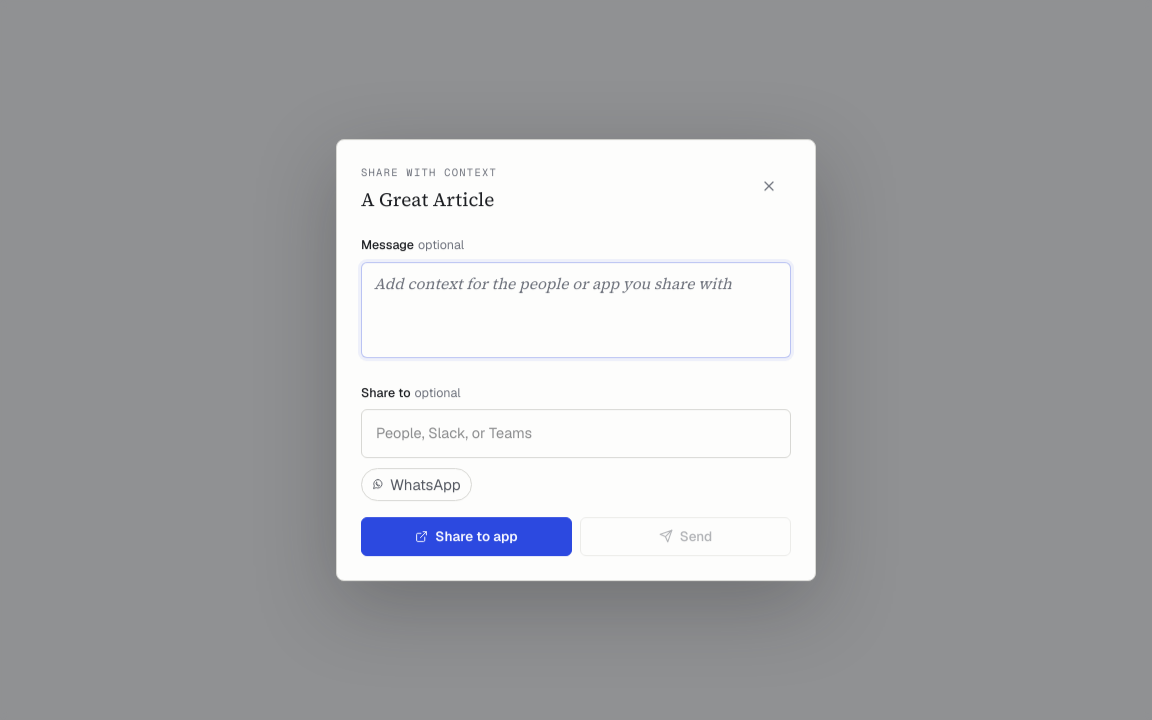
Test: <ShareModal> › searches users (debounced), strips the @, and adds a recipient
The width and height of the screenshot is (1152, 720).
Type "@bo" into the dropdown labelled "Share to". click: [576, 434]
box: [372,416,780,451]
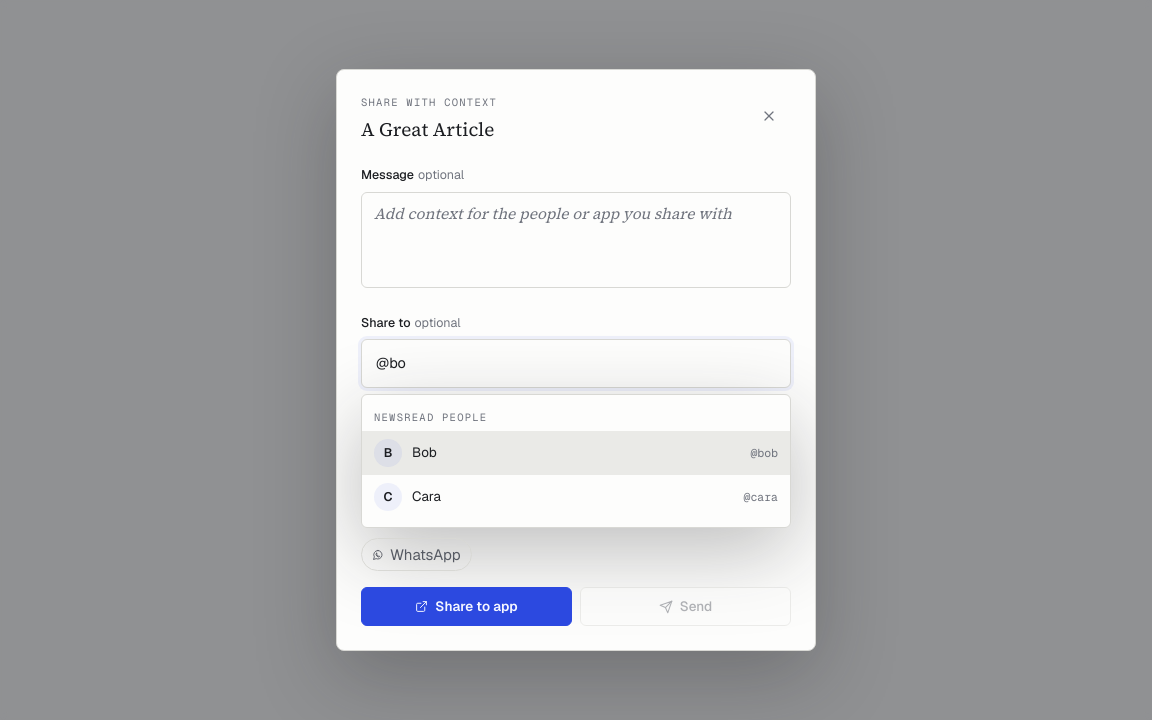
Check: the text "Bob" is shown
Click the text "Bob". click: [424, 452]
box: [412,443,437,461]
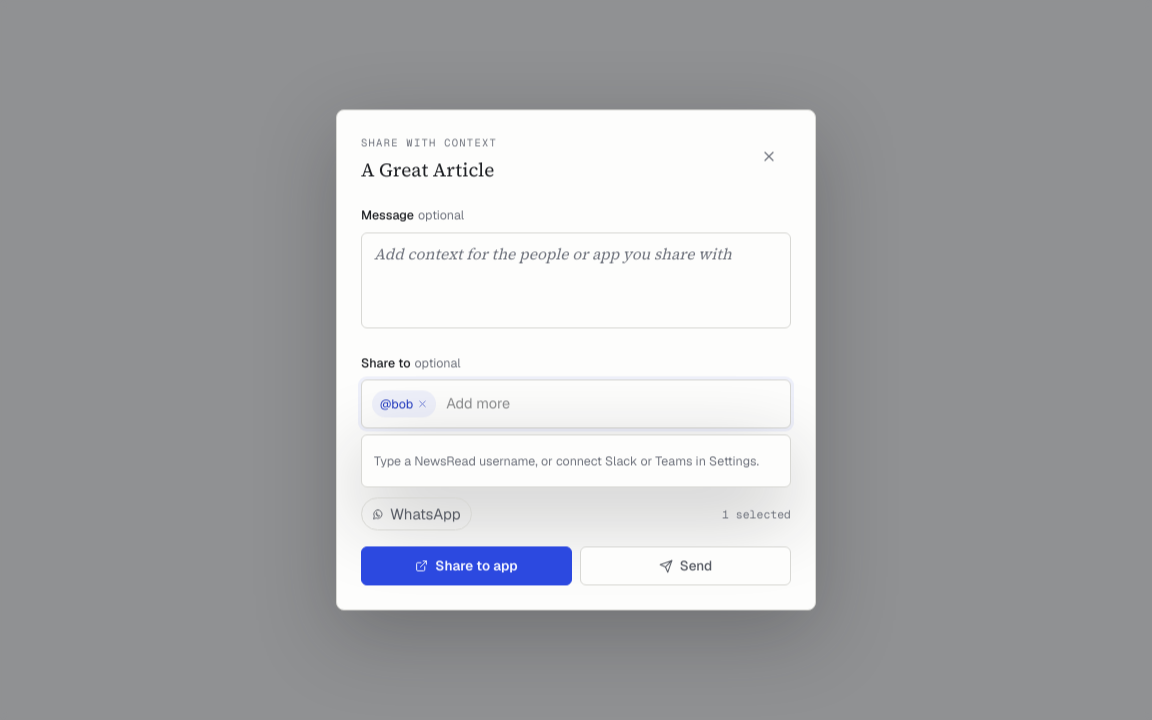
Check: the text "@bob" is shown, box [380,394,413,414]
Check: the dropdown labelled "Share to" is empty, box [442,387,780,421]
Check: the option "Cara" is gone
